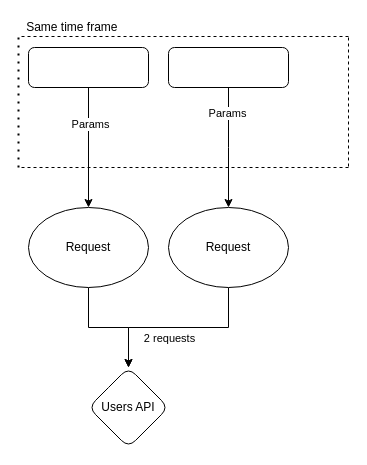
This 367x465 diagram has some shape labels left out. The centre of each missing label's shape, as x and y in pixels:
"User API: Need info for Avatar" belongs at [228,67].
"User API: Need info for Full Name" belongs at [88,67].
